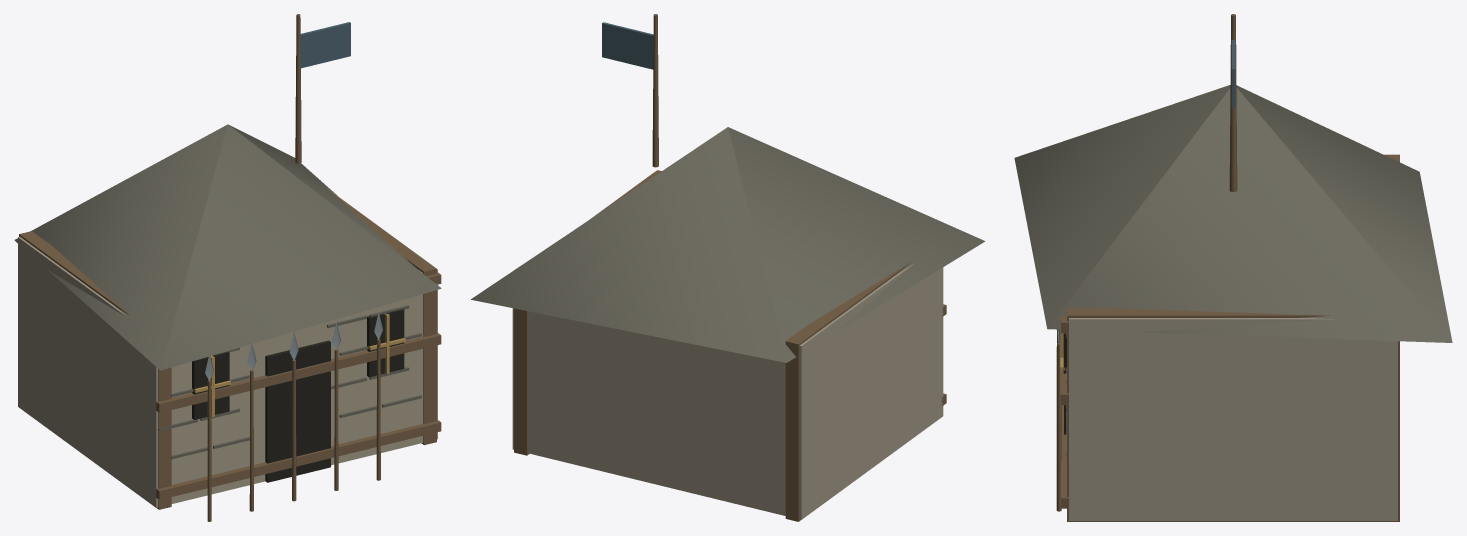
The model's file is b-barracks.glb.
The picture shows the model from 3 angles, left to right: view 1: azimuth 30°, elevation 25°; view 2: azimuth 150°, elevation 25°; view 3: azimuth 270°, elevation 25°; orthographic projection. The views are drawn at different scales.
Visible parts, largest first — view 1: Structure, weaponRack3, weaponRack0, weaponRack4, weaponRack2, weaponRack1; view 2: Structure; view 3: Structure, weaponRack4.
Boxes of the visible parts, <box> form: Structure: <box>14,14,441,509</box>; weaponRack3: <box>332,322,340,490</box>; weaponRack0: <box>205,356,213,521</box>; weaponRack4: <box>374,312,383,480</box>; weaponRack2: <box>289,332,298,501</box>; weaponRack1: <box>247,344,256,511</box>; Structure: <box>471,14,985,521</box>; Structure: <box>1014,14,1452,521</box>; weaponRack4: <box>1056,329,1061,511</box>.
Size of the model in its own units: 4.53 by 5.6 by 4.53.
